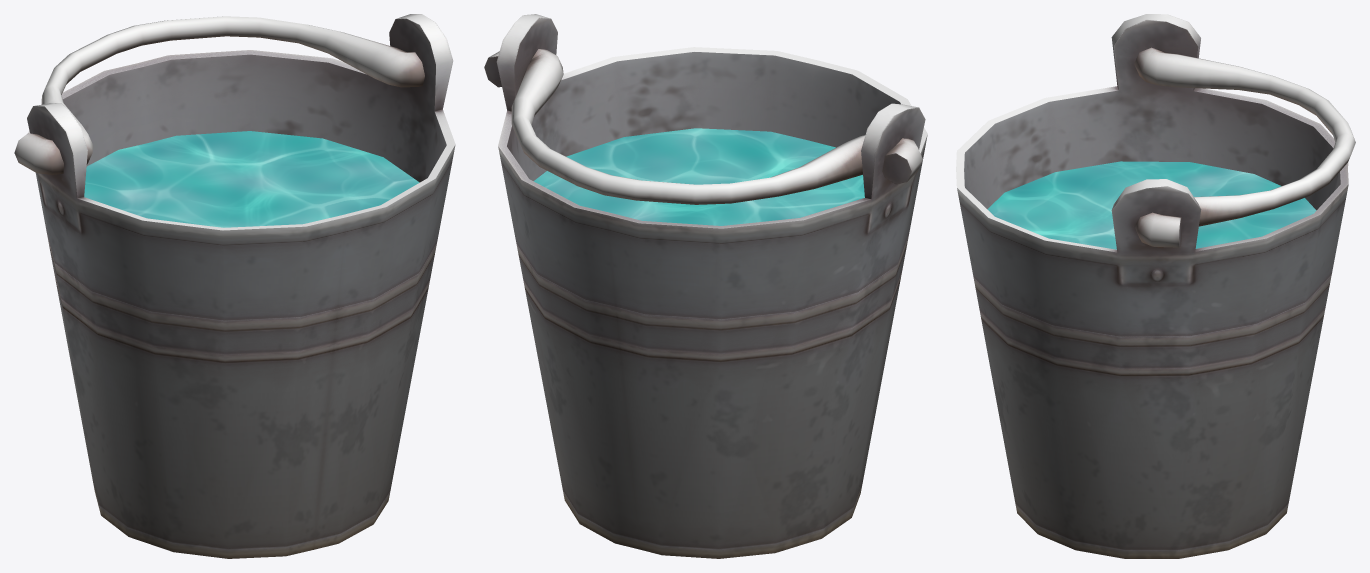
File: BucketMetallic01_2.FBX
3 renders of one model, left to right at view 1: azimuth 30°, elevation 25°; view 2: azimuth 150°, elevation 25°; view 3: azimuth 270°, elevation 25°, orthographic. The views are drawn at different scales.
Visible parts, largest first — view 1: BucketMetallic01_2; view 2: BucketMetallic01_2; view 3: BucketMetallic01_2.
Boxes of the visible parts, x1,y1,x2,y2 form: BucketMetallic01_2: [14, 14, 455, 558]; BucketMetallic01_2: [484, 14, 927, 558]; BucketMetallic01_2: [956, 14, 1355, 558].
Size of what is drawn, in the model's own units: 0.4993 by 0.4838 by 0.4357.
